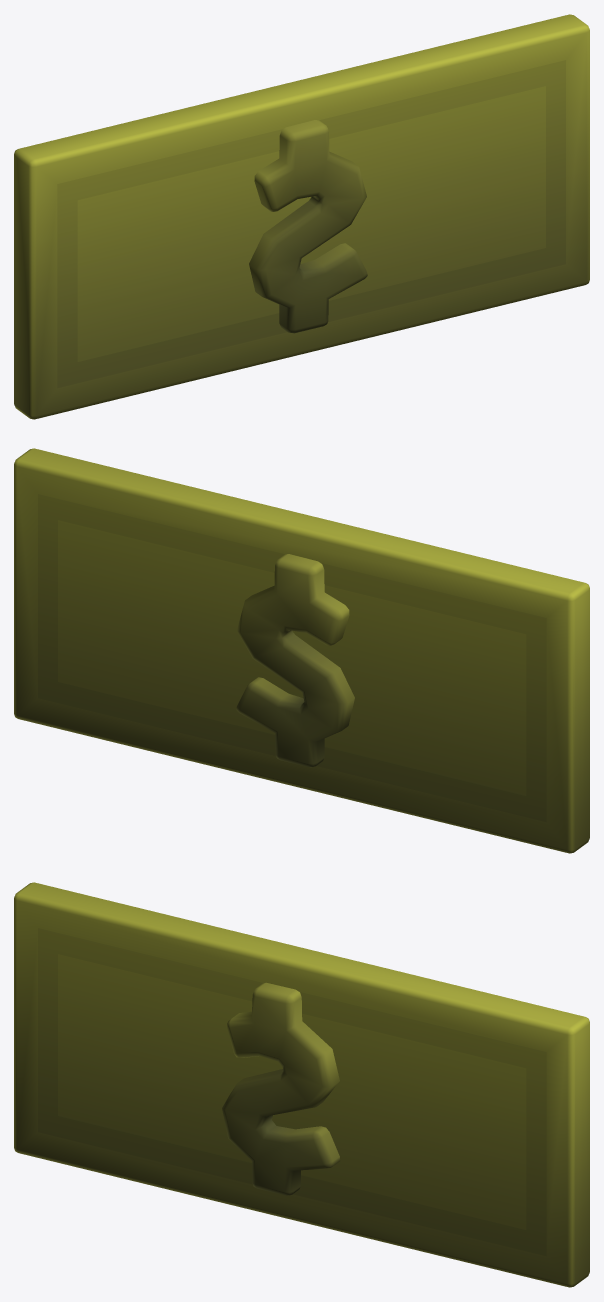
File: SM_dolar_002.fbx
3 views of the same model, one above another, from view 1: azimuth 30°, elevation 25°; view 2: azimuth 150°, elevation 25°; view 3: azimuth 330°, elevation 25° (orthographic).
Visible parts, largest first — view 1: SM_dolar_002; view 2: SM_dolar_002; view 3: SM_dolar_002.
Boxes of the visible parts, bbox=[...] form: SM_dolar_002: bbox=[14, 14, 589, 419]; SM_dolar_002: bbox=[14, 448, 589, 853]; SM_dolar_002: bbox=[14, 882, 589, 1287].
Bounding box in the file's own units: 95.46 × 42.34 × 11.93.
